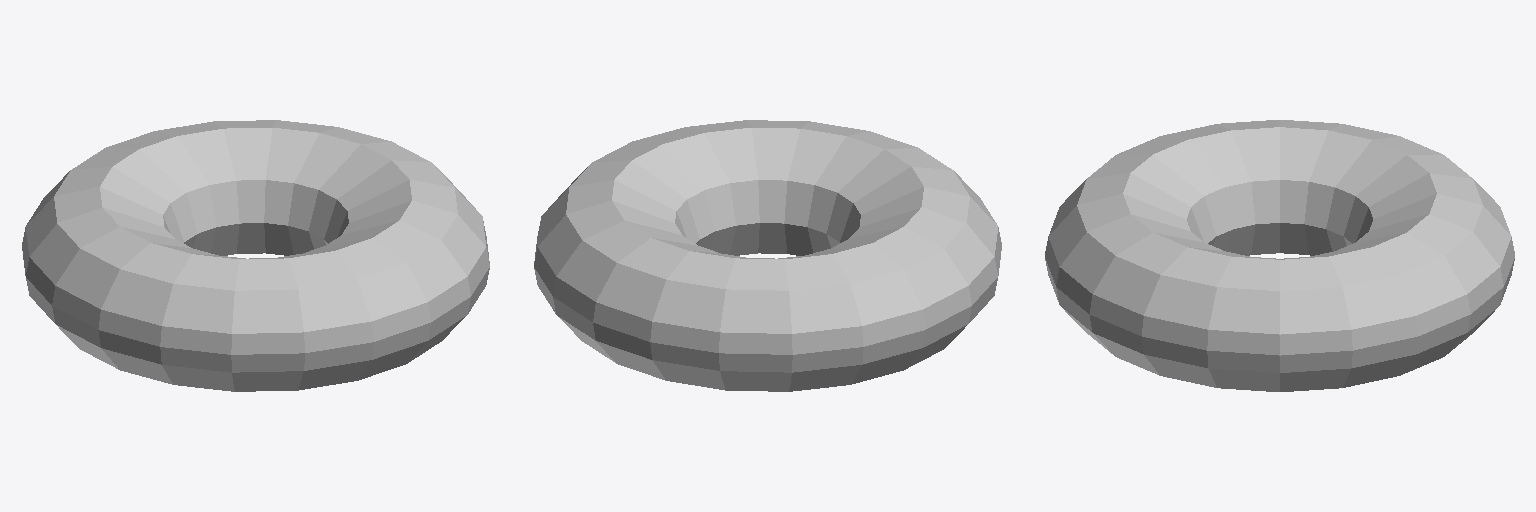
Rendered from corona.obj.
3 renders of one model, left to right at view 1: azimuth 30°, elevation 25°; view 2: azimuth 150°, elevation 25°; view 3: azimuth 270°, elevation 25°, orthographic.
Visible parts, largest first — view 1: pTorus1; view 2: pTorus1; view 3: pTorus1.
Part boxes in pixels (bbox=[...]): pTorus1: bbox=[22, 120, 489, 391]; pTorus1: bbox=[534, 120, 1001, 391]; pTorus1: bbox=[1045, 120, 1514, 391].
Size of the model in its own units: 1.25 by 0.3663 by 1.25.